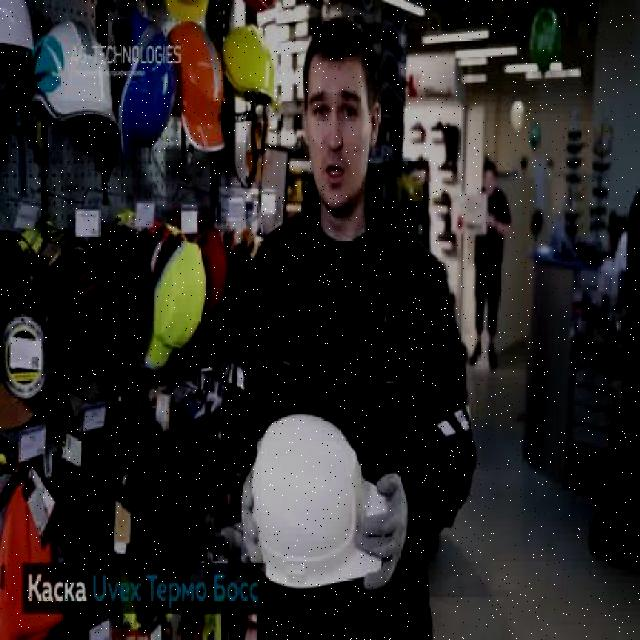Gloves: (354, 466, 408, 592), (237, 463, 268, 579)
Helmet: (250, 410, 388, 592), (116, 11, 176, 167), (31, 23, 120, 125), (170, 21, 226, 154), (218, 23, 282, 116), (0, 0, 38, 64)
